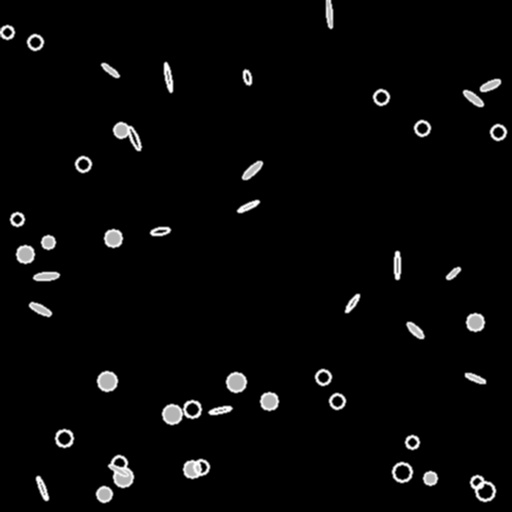pseudomonas: (462, 88, 484, 108), (241, 160, 263, 180), (28, 301, 52, 317), (126, 126, 142, 150), (35, 475, 49, 501), (100, 61, 120, 79), (406, 321, 424, 339), (344, 293, 360, 313), (479, 78, 501, 92), (237, 199, 259, 213), (163, 62, 173, 92), (108, 463, 128, 477), (464, 372, 486, 384), (33, 271, 59, 281), (325, 0, 333, 28), (445, 266, 461, 280), (209, 405, 231, 415), (150, 226, 170, 236), (242, 69, 252, 85), (395, 252, 400, 278)
synechocystis: (476, 482, 494, 500), (98, 372, 116, 390), (163, 405, 181, 423), (227, 373, 245, 391), (114, 468, 132, 486), (393, 463, 411, 481), (184, 461, 200, 477), (105, 230, 121, 246), (184, 401, 200, 417), (56, 430, 72, 446), (261, 393, 277, 409), (467, 314, 483, 330), (17, 246, 33, 262), (114, 123, 128, 137), (415, 121, 429, 135), (28, 35, 42, 49), (112, 456, 126, 470), (97, 487, 111, 501), (374, 90, 388, 104), (316, 370, 330, 384), (194, 460, 208, 474), (491, 125, 505, 139), (330, 394, 344, 408), (76, 157, 90, 171), (11, 213, 23, 225), (42, 236, 54, 248), (1, 26, 13, 38), (424, 472, 436, 484), (471, 476, 483, 488), (406, 436, 418, 448)
